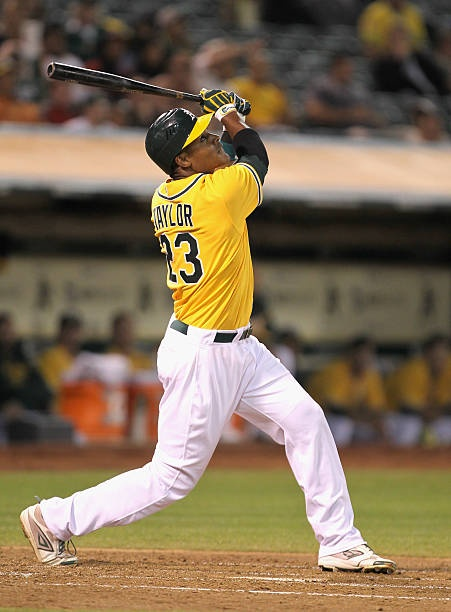bita: (45, 62, 263, 119)
